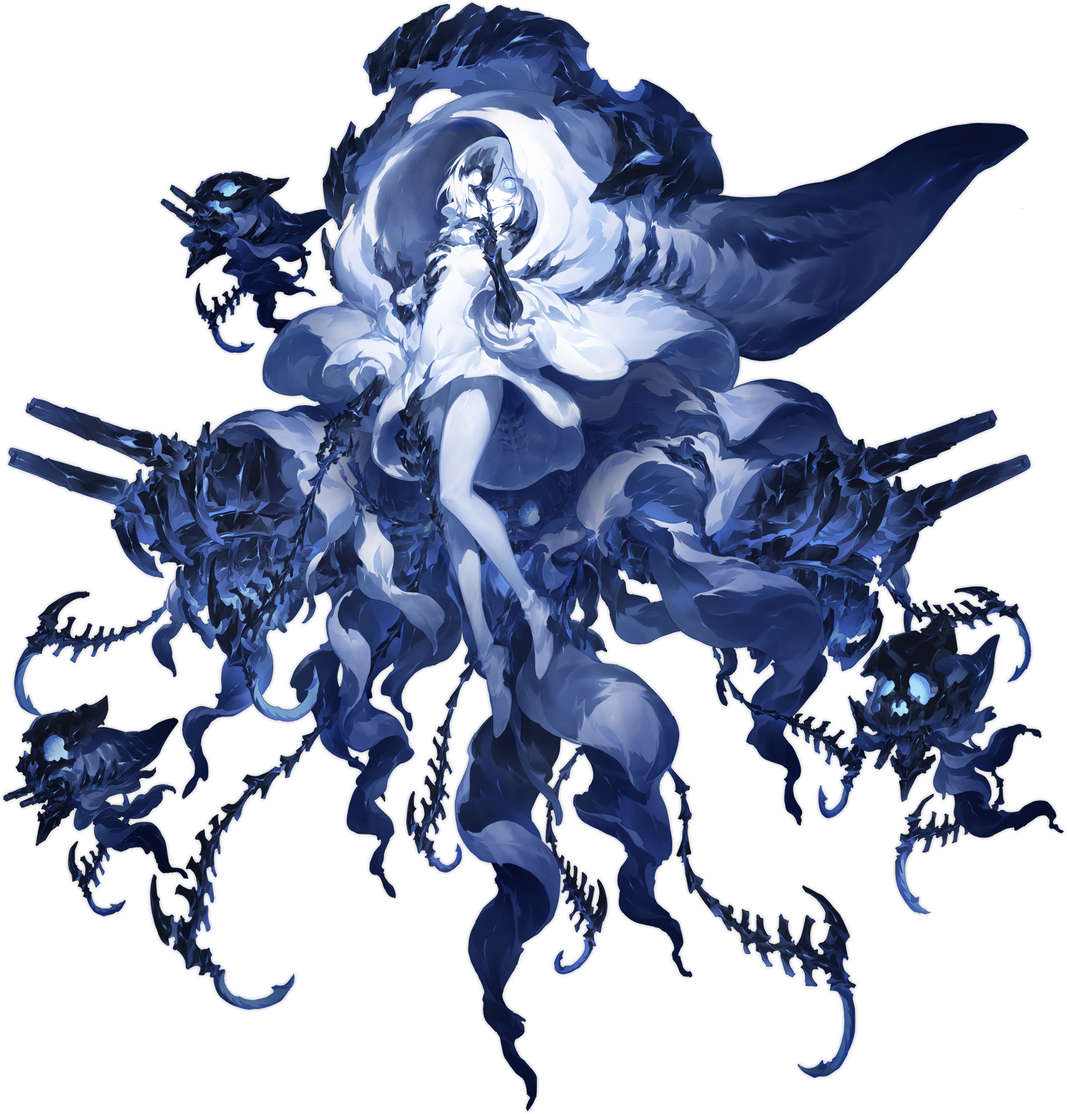person: (2, 1, 1064, 1112)
